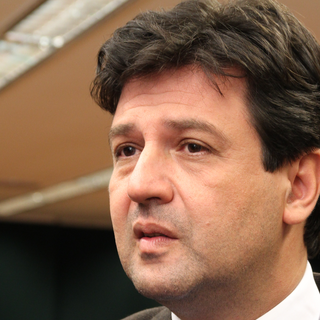eye: (168, 136, 220, 161), (111, 140, 144, 162)
